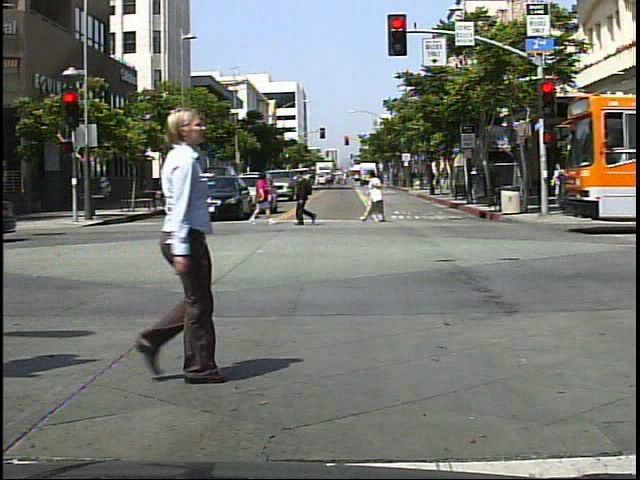person: (94, 92, 262, 399), (291, 161, 323, 230), (245, 168, 276, 227), (363, 167, 392, 227), (552, 160, 570, 207)
